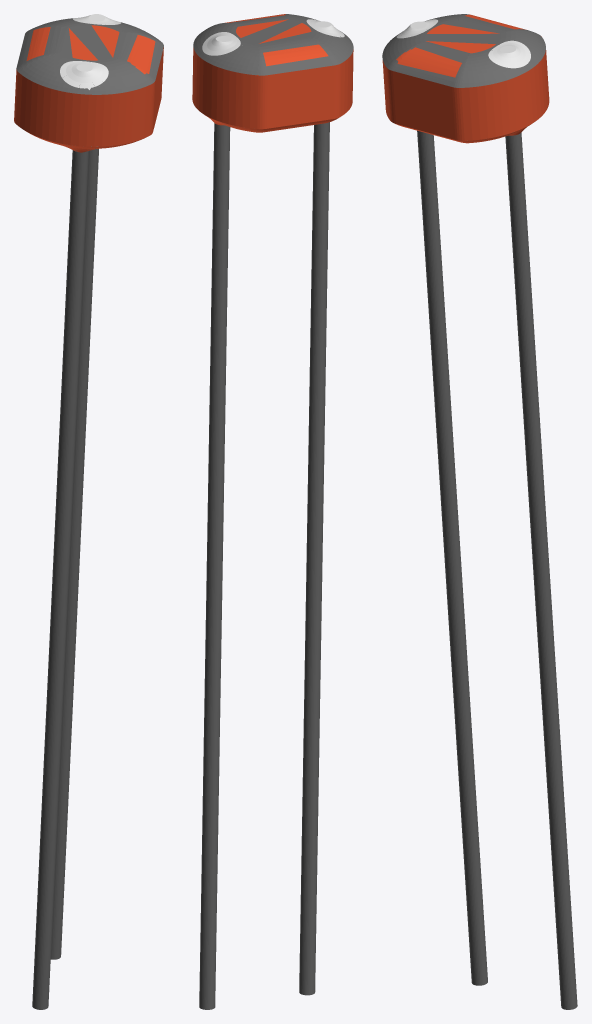
The model's file is LDR.fbx.
3 views of the same model, side by side, from view 1: azimuth 30°, elevation 25°; view 2: azimuth 150°, elevation 25°; view 3: azimuth 270°, elevation 25° (orthographic). The views are drawn at different scales.
Parts seen in each view (by area): view 1: LDR; view 2: LDR; view 3: LDR.
Boxes of the visible parts, x1,y1,x2,y2 form: LDR: (14, 14, 163, 1009); LDR: (192, 14, 353, 1009); LDR: (382, 14, 577, 1009).
Size of the model in its own units: 503 by 3260 by 595.
